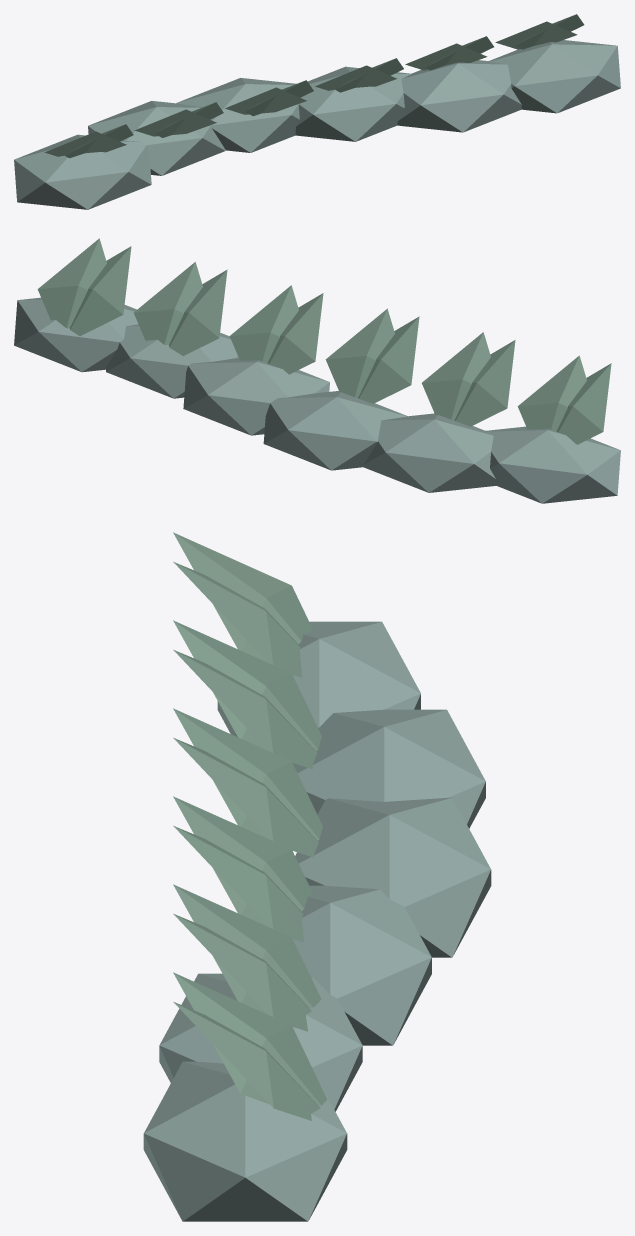
File: map-exclusive-v3__lake_14.glb
3 renders of one model, top to bottom at view 1: azimuth 30°, elevation 25°; view 2: azimuth 150°, elevation 25°; view 3: azimuth 270°, elevation 25°, orthographic. The views are drawn at different scales.
Visible parts, largest first — view 1: lake_14; view 2: lake_14; view 3: lake_14.
Part boxes in pixels (bbox=[...]): lake_14: bbox=[14, 14, 620, 209]; lake_14: bbox=[14, 238, 620, 503]; lake_14: bbox=[143, 532, 491, 1221].
Size of the model in its own units: 3.49 by 0.6 by 0.901.
